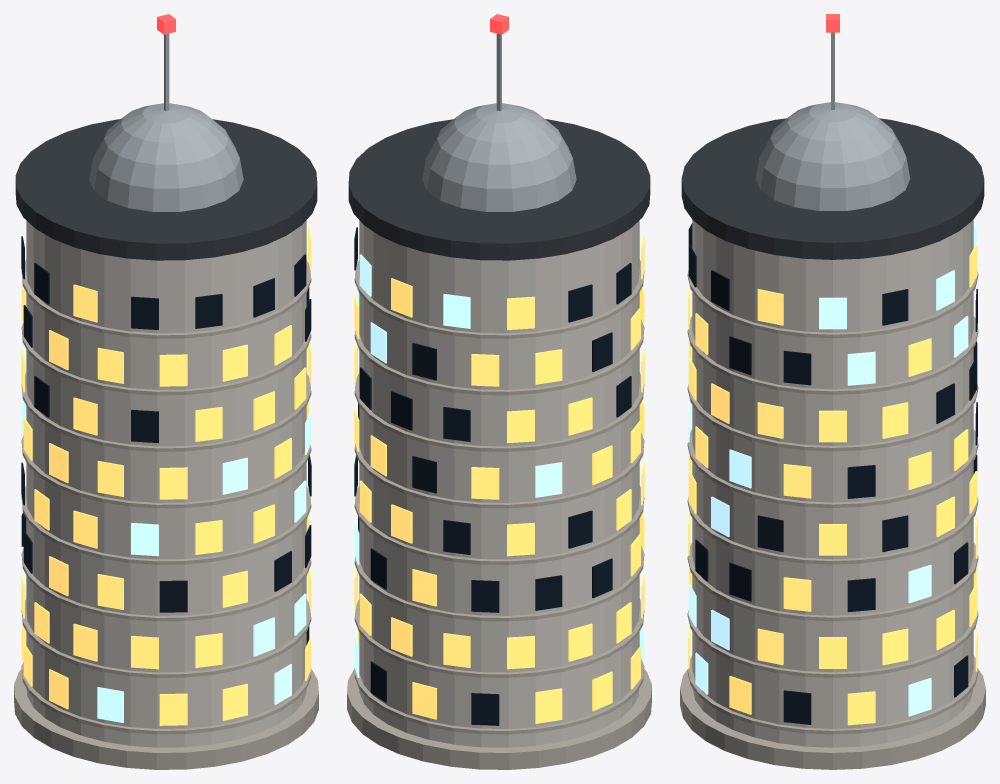
The model's file is sk_round.glb.
3 renders of one model, left to right at view 1: azimuth 30°, elevation 25°; view 2: azimuth 150°, elevation 25°; view 3: azimuth 270°, elevation 25°, orthographic.
Parts seen in each view (by area): view 1: round_Wall, round_Trim, round_GlassLit, round_Roof, round_Metal, round_GlassDark, round_GlassCool; view 2: round_Wall, round_Trim, round_Roof, round_GlassLit, round_Metal, round_GlassDark, round_GlassCool; view 3: round_Wall, round_Trim, round_Roof, round_GlassLit, round_Metal, round_GlassDark, round_GlassCool.
Part boxes in pixels (x1,y1,x2,y2): round_Wall: (26, 220, 306, 747); round_Trim: (14, 259, 318, 769); round_GlassLit: (21, 227, 311, 725); round_Roof: (15, 119, 317, 260); round_Metal: (89, 33, 243, 211); round_GlassDark: (21, 236, 311, 644); round_GlassCool: (21, 400, 311, 722); round_Wall: (359, 220, 639, 747); round_Trim: (347, 259, 651, 769); round_Roof: (348, 119, 650, 260); round_GlassLit: (354, 236, 644, 723); round_Metal: (422, 33, 576, 211); round_GlassDark: (354, 227, 631, 725); round_GlassCool: (354, 254, 644, 677); round_Wall: (692, 220, 973, 747); round_Trim: (680, 270, 985, 769); round_Roof: (681, 118, 984, 259); round_GlassLit: (688, 244, 977, 725); round_Metal: (755, 32, 910, 210); round_GlassDark: (688, 223, 977, 724); round_GlassCool: (688, 223, 977, 716).
Size of the model in its own units: 19.6 by 48.65 by 19.6.
